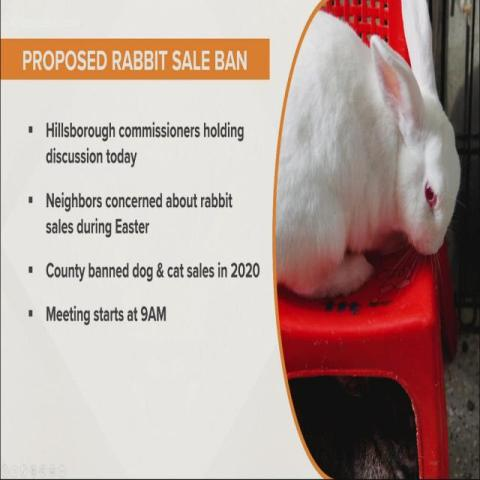small_animal: (274, 0, 462, 302)
